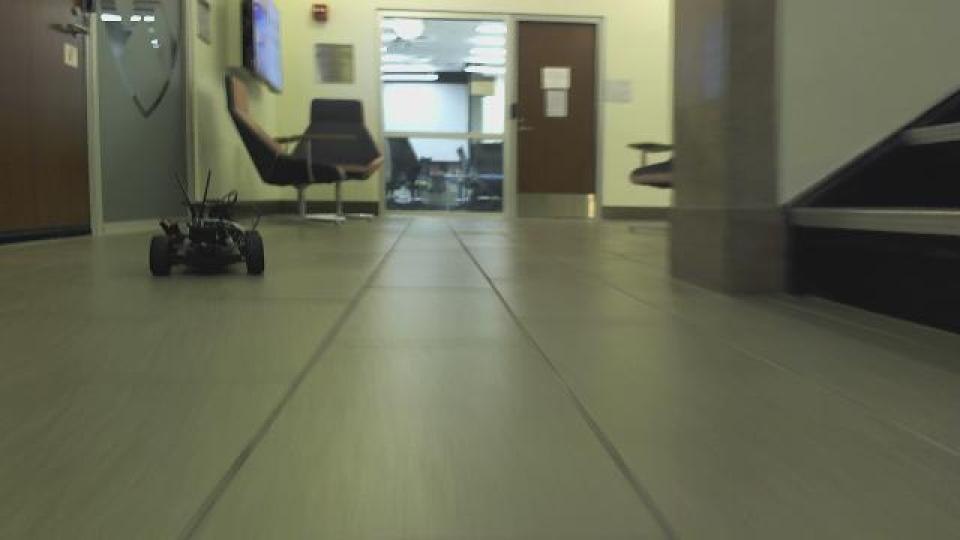car: (144, 166, 267, 280)
